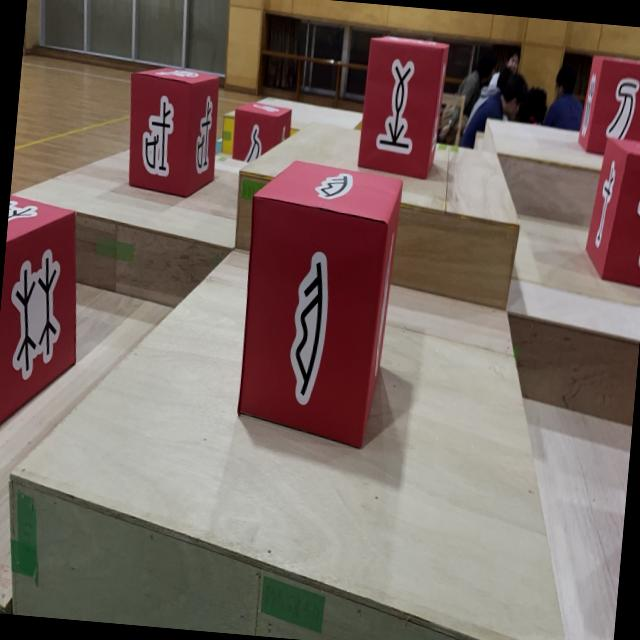10: (244, 124, 264, 164)
11: (286, 250, 332, 406), (314, 168, 354, 200)
2: (580, 72, 598, 138)
3: (605, 74, 639, 140)
5: (138, 92, 176, 176), (193, 93, 216, 175)
6: (3, 246, 68, 382), (7, 197, 38, 227)
7: (376, 58, 420, 156)
9: (595, 159, 616, 250), (630, 197, 640, 270)
fighter: (232, 155, 404, 451), (0, 193, 89, 436), (121, 63, 222, 200), (356, 33, 449, 180), (583, 134, 640, 287), (577, 53, 640, 157), (230, 98, 292, 166)
